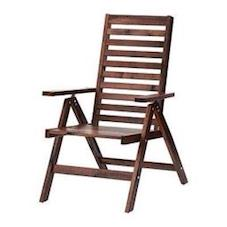chair: (38, 12, 192, 213)
